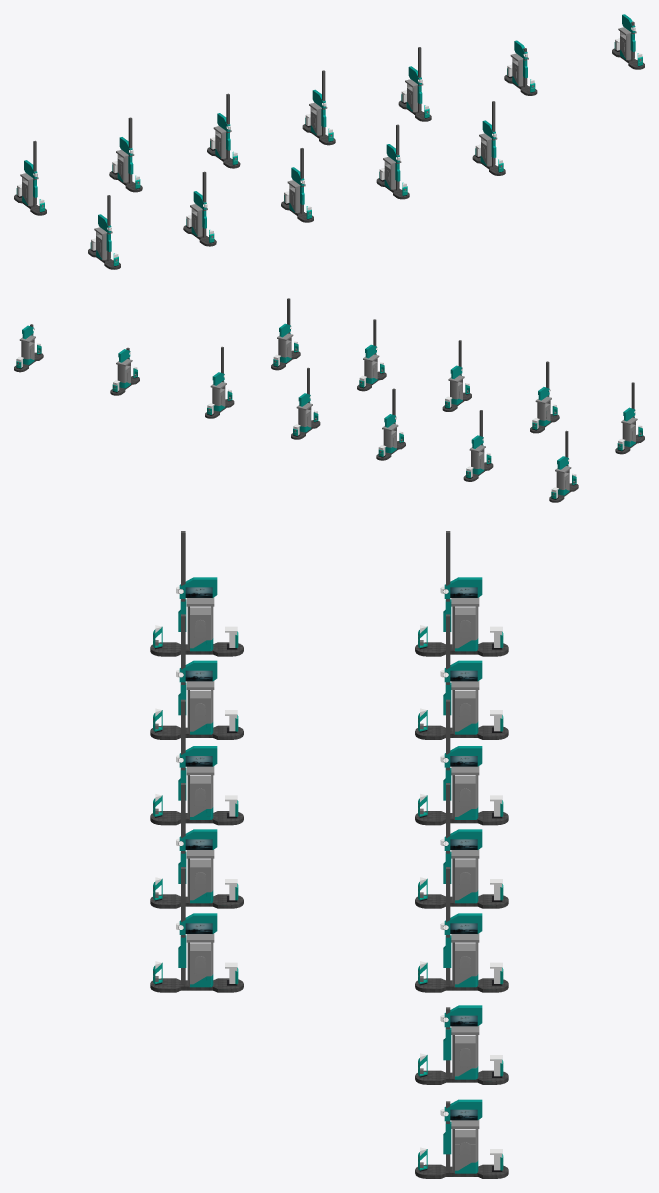
File: PETRONAS PAM MINYAK.fbx
The picture shows the model from 3 angles, top to bottom: view 1: azimuth 30°, elevation 25°; view 2: azimuth 150°, elevation 25°; view 3: azimuth 270°, elevation 25°; orthographic projection. The views are drawn at different scales.
Visible parts, largest first — view 1: petrol_pump_12; view 2: petrol_pump_12; view 3: petrol_pump_12.
Part boxes in pixels (x1=…): petrol_pump_12: x1=14, y1=14, x2=644, y2=269; petrol_pump_12: x1=14, y1=298, x2=644, y2=502; petrol_pump_12: x1=150, y1=531, x2=508, y2=1178.
Size of the model in its own units: 5712 by 599 by 1624.
Materials: 1 (1 with a texture image).
